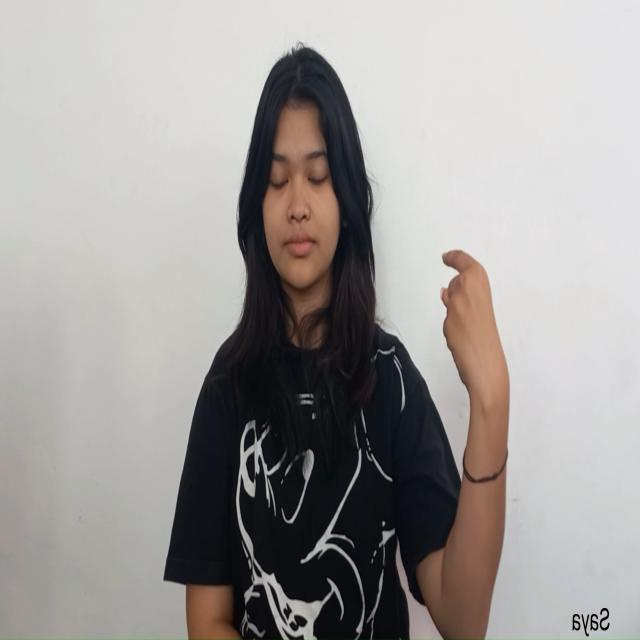Saya -BISINDO-: (436, 243, 516, 436)
